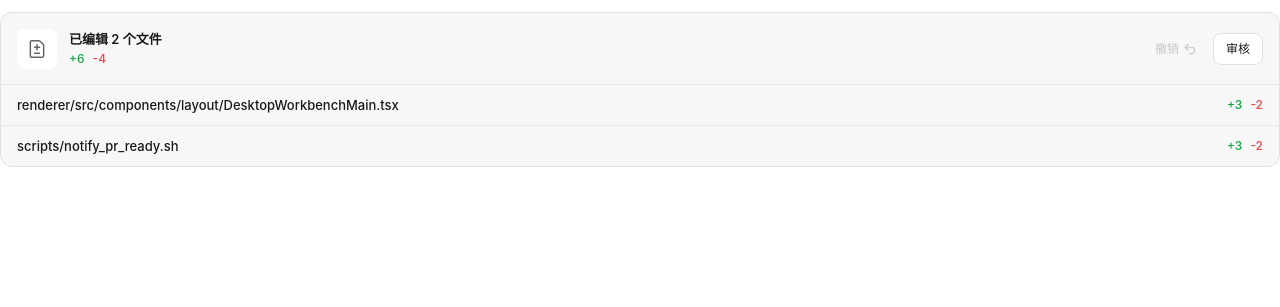
Test: FileChangesCard › opens a delayed diff preview from a file row in a multi-file summary
Hover over the element with test id "file-change-trigger" that starts with "scripts/notify_pr_ready.sh": (640,146) 17,136 -> 1263,156
Wait 500 ms
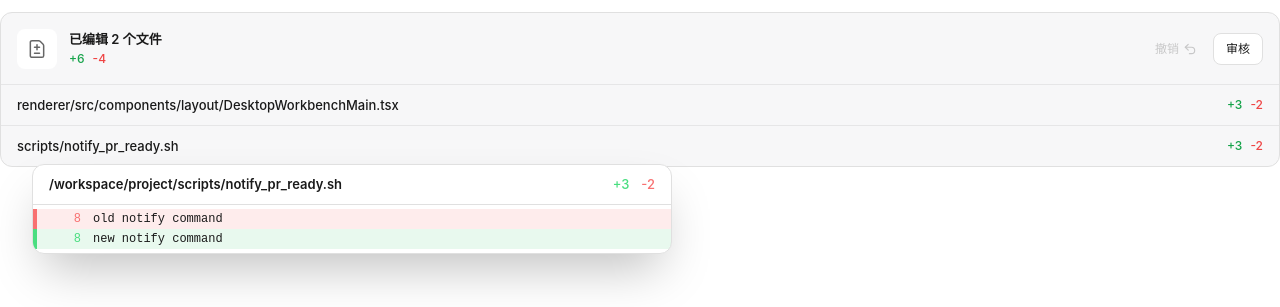
Check: the element with test id "file-change-diff-preview" shows "notify_pr_ready.sh", box 49,176 -> 342,192
Check: the element with test id "file-change-diff-preview" shows "old notify command", box 93,212 -> 223,226
Check: the element with test id "file-change-diff-preview" shows "new notify command", box 93,232 -> 223,246
